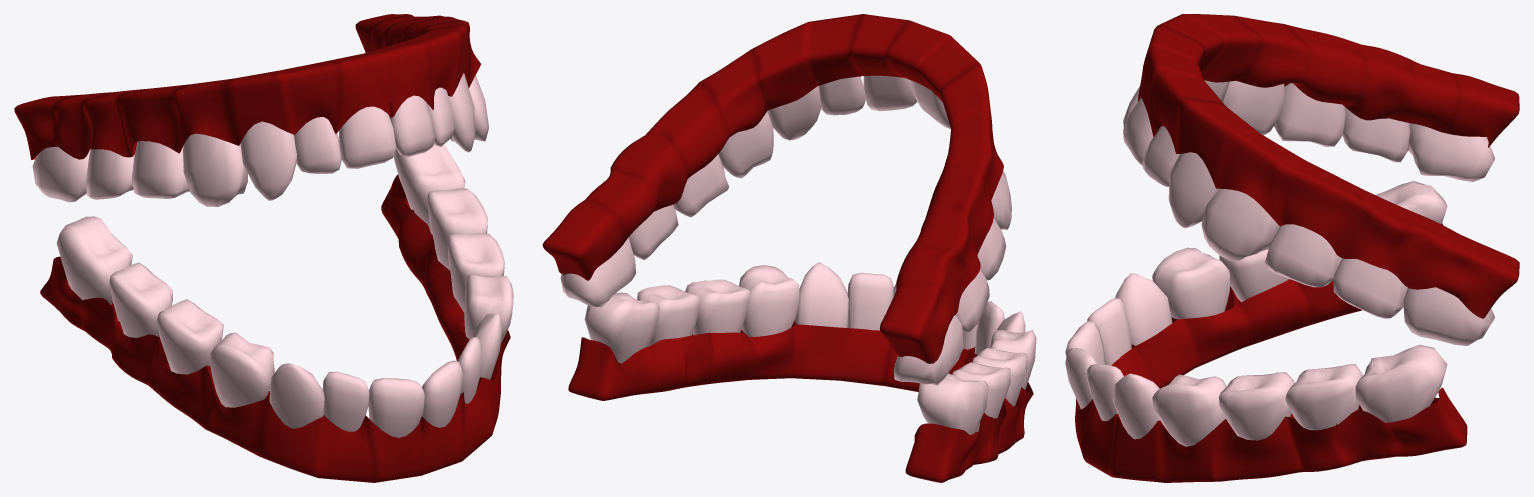
File: teeth2.obj
3 renders of one model, left to right at view 1: azimuth 30°, elevation 25°; view 2: azimuth 150°, elevation 25°; view 3: azimuth 270°, elevation 25°, orthographic.
Parts seen in each view (by area): view 1: LowerJaw_Cube.001, UpperJaw_Cube.002; view 2: UpperJaw_Cube.002, LowerJaw_Cube.001; view 3: UpperJaw_Cube.002, LowerJaw_Cube.001.
Part boxes in pixels (x1,y1,x2,y2): LowerJaw_Cube.001: [40, 144, 513, 482]; UpperJaw_Cube.002: [14, 14, 489, 206]; UpperJaw_Cube.002: [542, 14, 1011, 385]; LowerJaw_Cube.001: [568, 262, 1036, 482]; UpperJaw_Cube.002: [1123, 14, 1519, 345]; LowerJaw_Cube.001: [1065, 181, 1467, 482].
Size of the model in its own units: 1.36 by 1.34 by 1.39.
